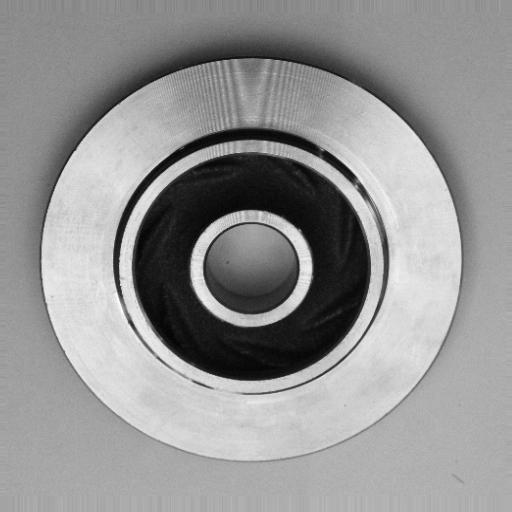polished_casting: (37, 50, 464, 466)
